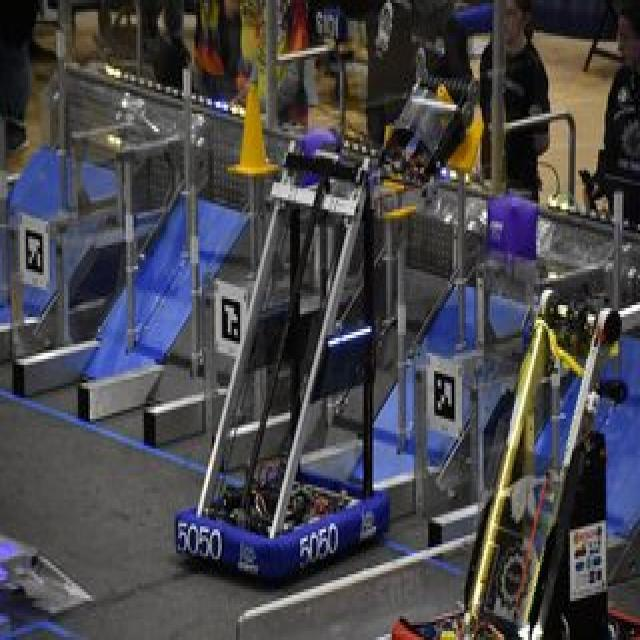robot: (161, 39, 378, 603), (374, 281, 640, 634)
